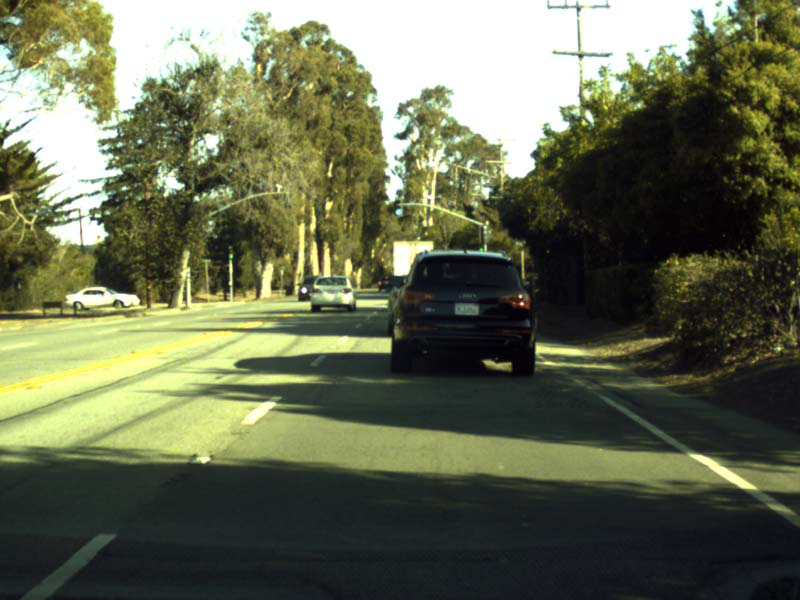Green: (393, 189, 403, 216), (228, 244, 234, 259), (474, 244, 483, 252)
